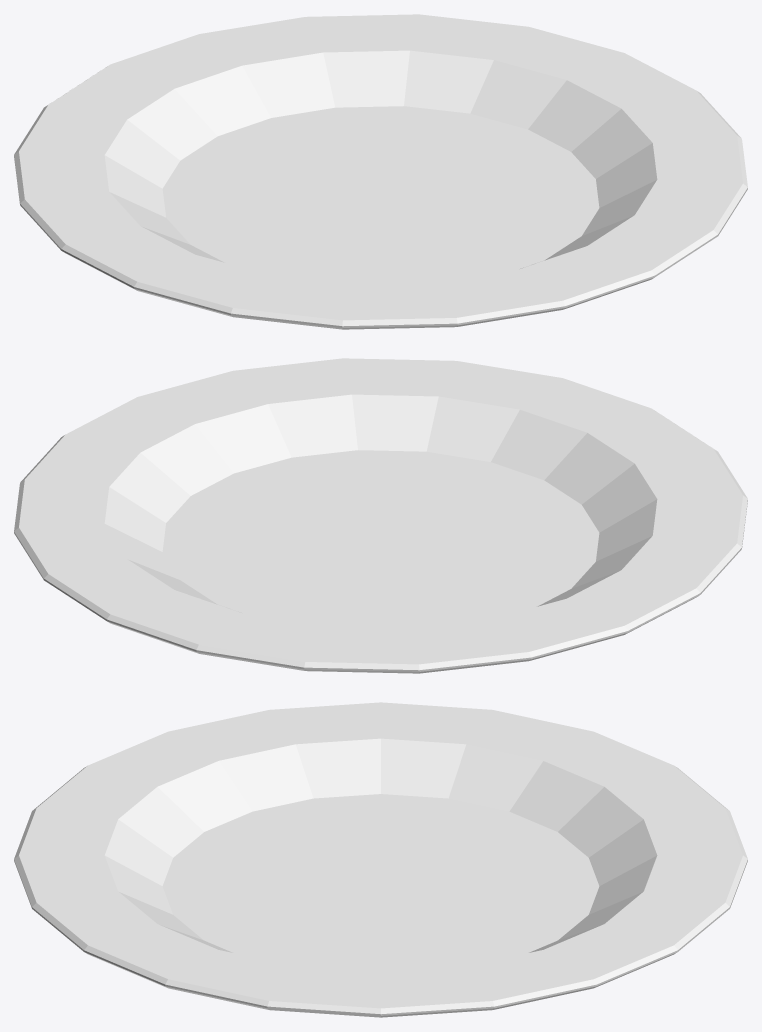
File: Plate.glb
The picture shows the model from 3 angles, top to bottom: view 1: azimuth 30°, elevation 25°; view 2: azimuth 150°, elevation 25°; view 3: azimuth 270°, elevation 25°; orthographic projection.
Parts seen in each view (by area): view 1: Plate; view 2: Plate; view 3: Plate.
Part boxes in pixels (bbox=[...]): Plate: bbox=[14, 14, 747, 329]; Plate: bbox=[14, 358, 747, 673]; Plate: bbox=[14, 702, 747, 1017].
Size of the model in its own units: 67.5 by 4.07 by 67.5.
Materials: 1 (1 with a texture image).
